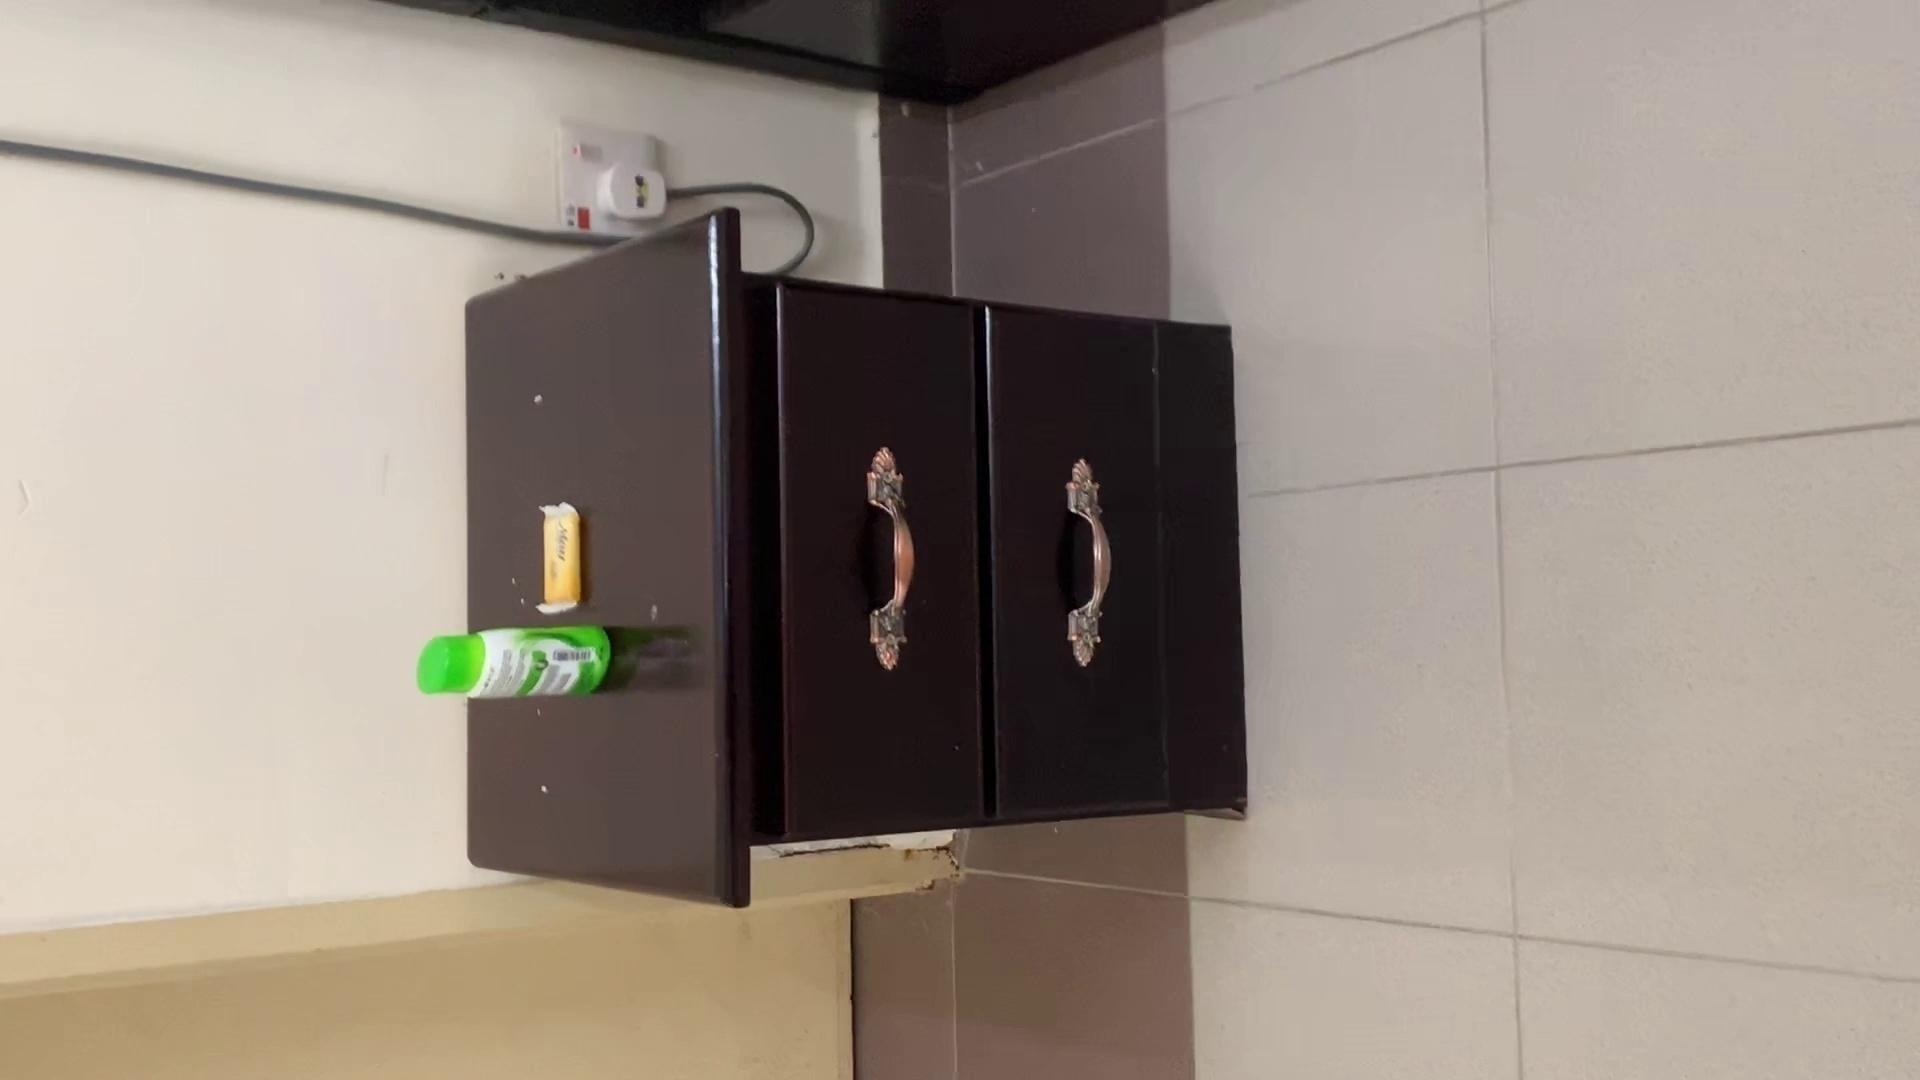cabinet_door: (779, 307, 981, 815), (984, 309, 1168, 815)
handle: (847, 452, 916, 671), (1052, 454, 1118, 665)
